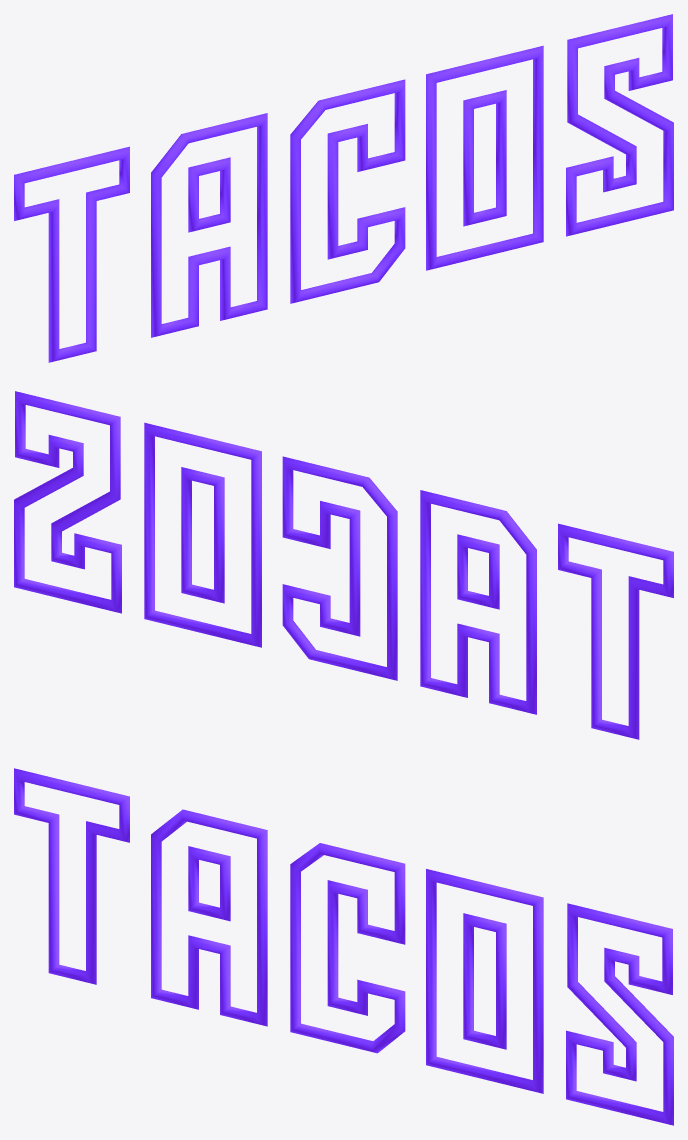
The picture shows the model from 3 angles, top to bottom: view 1: azimuth 30°, elevation 25°; view 2: azimuth 150°, elevation 25°; view 3: azimuth 330°, elevation 25°; orthographic projection.
Parts seen in each view (by area): view 1: NeonSignTacos; view 2: NeonSignTacos; view 3: NeonSignTacos.
Part boxes in pixels (x1,y1,x2,y2): NeonSignTacos: (14,14,673,362); NeonSignTacos: (14,391,673,739); NeonSignTacos: (14,768,673,1125).
Size of the model in its own units: 1.04 by 0.2963 by 0.0145.
Materials: 1 (1 with a texture image).
